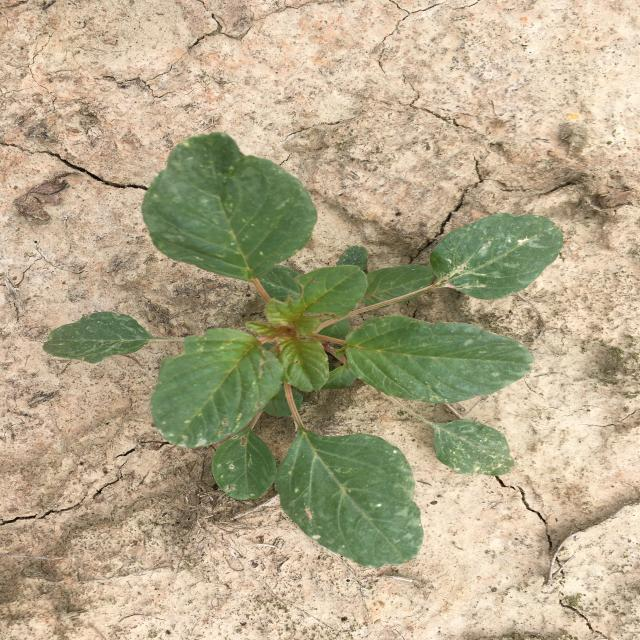PalmerAmaranth: (42, 132, 564, 569)
